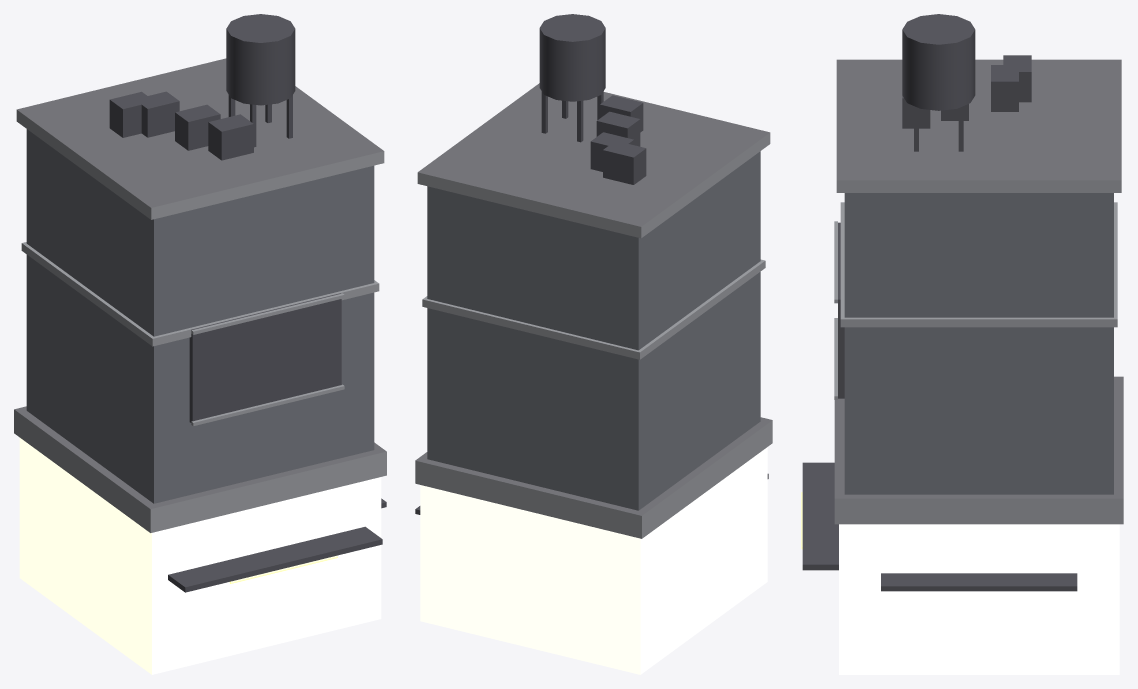
Rendered from s10_shop.glb.
3 views of the same model, side by side, from view 1: azimuth 30°, elevation 25°; view 2: azimuth 150°, elevation 25°; view 3: azimuth 270°, elevation 25° (orthographic). The views are drawn at different scales.
Parts seen in each view (by area): view 1: s10_shop; view 2: s10_shop; view 3: s10_shop.
Boxes of the visible parts, <box> form: s10_shop: <box>14,14,386,674</box>; s10_shop: <box>415,14,772,674</box>; s10_shop: <box>801,14,1123,674</box>.
Bounding box in the file's own units: 11.25 × 23.9 × 11.49.
